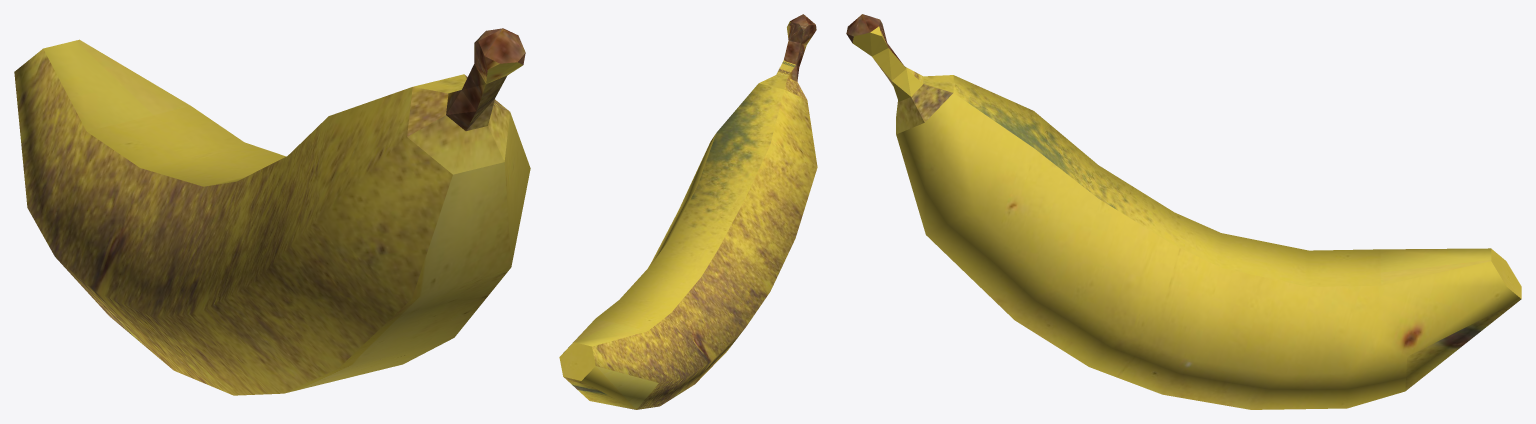
Rendered from banana.FBX.
3 renders of one model, left to right at view 1: azimuth 30°, elevation 25°; view 2: azimuth 150°, elevation 25°; view 3: azimuth 270°, elevation 25°, orthographic. The views are drawn at different scales.
Visible parts, largest first — view 1: Cylinder001; view 2: Cylinder001; view 3: Cylinder001.
Boxes of the visible parts, x1,y1,x2,y2 form: Cylinder001: (14, 28, 530, 395); Cylinder001: (559, 14, 817, 409); Cylinder001: (846, 14, 1521, 409).
Size of the model in its own units: 19.35 by 40.99 by 66.62.
1 material, 1 textured.
